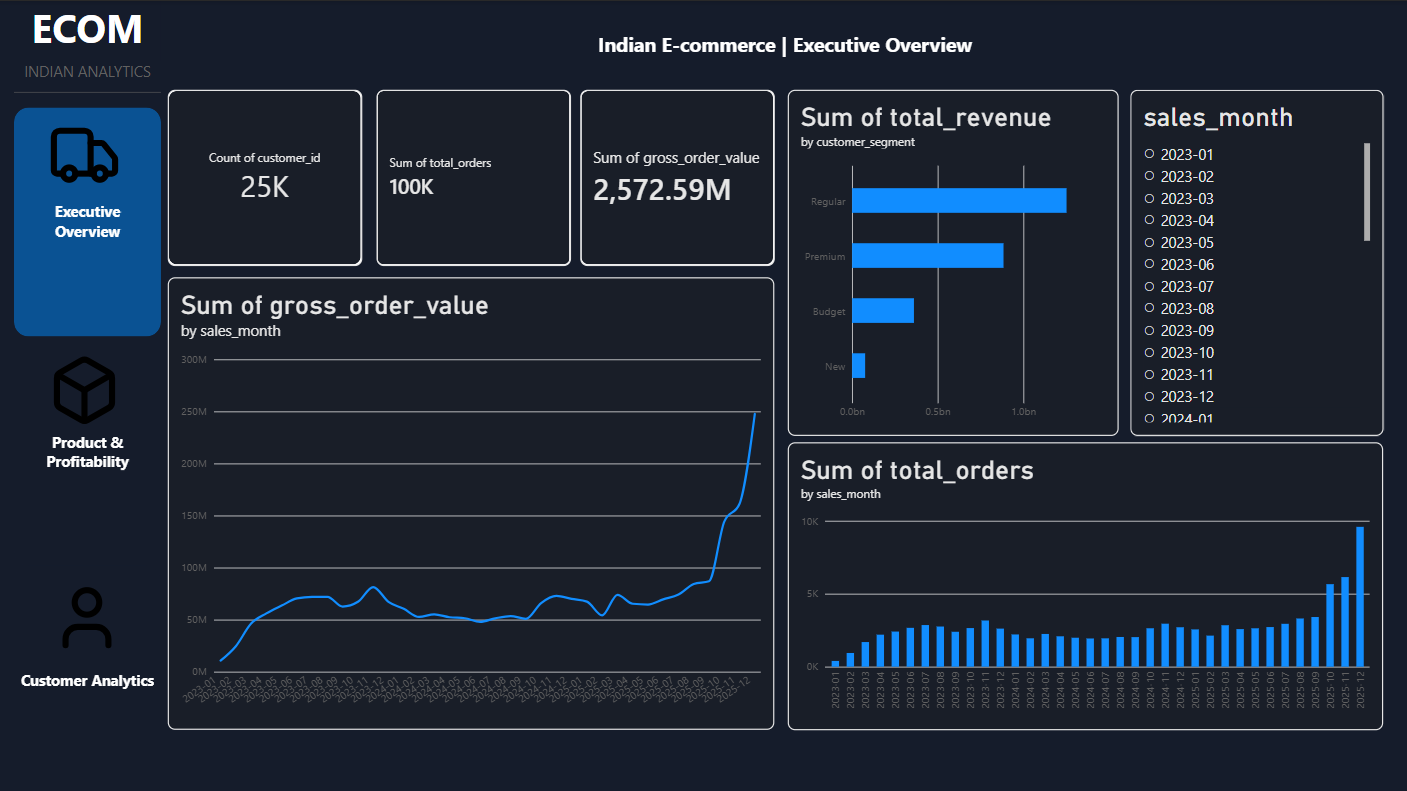

Layout of this report page (visuals, bound fields, positions):
{"tool":"powerbi","page":{"name":"Executive Overview","canvas":[1920,1080],"ordinal":0},"visuals":[{"type":"textbox","box":[810,40.2,520,50.2],"z":0},{"type":"cardVisual","fields":{"Data":["Sum(indian_ecommerce vw_monthly_sales.gross_order_value)"]},"box":[790.6,120.6,265,240],"z":1000},{"type":"lineChart","fields":{"Category":["indian_ecommerce vw_monthly_sales.sales_month"],"Y":["Sum(indian_ecommerce vw_monthly_sales.gross_order_value)"]},"box":[229.5,375.2,825.7,616.4],"z":2000},{"type":"cardVisual","fields":{"Data":["Sum(indian_ecommerce vw_monthly_sales.total_orders)"]},"box":[514.2,120.6,265,240],"z":3000},{"type":"cardVisual","fields":{"Data":["Count(indian_ecommerce vw_customer_performance.customer_id)"]},"box":[230,120.6,265,240],"z":4000},{"type":"clusteredBarChart","fields":{"Category":["indian_ecommerce vw_customer_performance.customer_segment"],"Y":["Sum(indian_ecommerce vw_customer_performance.total_revenue)"]},"box":[1073.6,120.6,450.4,471.5],"z":5000},{"type":"clusteredColumnChart","fields":{"Category":["indian_ecommerce vw_monthly_sales.sales_month"],"Y":["Sum(indian_ecommerce vw_monthly_sales.total_orders)"]},"box":[1073.6,600,810.7,391.9],"z":6000},{"type":"listSlicer","fields":{"Values":["indian_ecommerce vw_monthly_sales.sales_month"]},"box":[1539.3,120.6,345,471.5],"z":7000},{"type":"pageNavigator","title":"ECOM","box":[20,0,200,1080.6],"z":8000},{"type":"image","box":[66,160,100,100],"z":9000},{"type":"image","box":[70,790,100,100],"z":10000},{"type":"image","box":[66,480,100,100],"z":11000}]}

Visuals, with their boxes in screenshot pixels (x1, y1, x2, y2), scaled from the page's 1920x1080 canvas onto the 1407x791 screenshot:
textbox: <box>594,29,975,66</box>
cardVisual - Sum(indian_ecommerce vw_monthly_sales.gross_order_value): <box>579,88,774,264</box>
lineChart - indian_ecommerce vw_monthly_sales.sales_month x Sum(indian_ecommerce vw_monthly_sales.gross_order_value): <box>168,275,773,726</box>
cardVisual - Sum(indian_ecommerce vw_monthly_sales.total_orders): <box>377,88,571,264</box>
cardVisual - Count(indian_ecommerce vw_customer_performance.customer_id): <box>169,88,363,264</box>
clusteredBarChart - indian_ecommerce vw_customer_performance.customer_segment x Sum(indian_ecommerce vw_customer_performance.total_revenue): <box>787,88,1117,434</box>
clusteredColumnChart - indian_ecommerce vw_monthly_sales.sales_month x Sum(indian_ecommerce vw_monthly_sales.total_orders): <box>787,439,1381,726</box>
listSlicer - indian_ecommerce vw_monthly_sales.sales_month: <box>1128,88,1381,434</box>
"ECOM" pageNavigator: <box>15,0,161,790</box>
image: <box>48,117,122,190</box>
image: <box>51,579,125,652</box>
image: <box>48,352,122,425</box>
